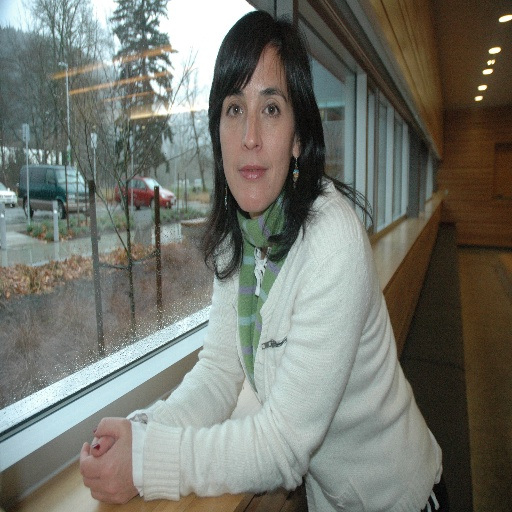hand: (70, 414, 148, 495), (87, 433, 117, 458)
